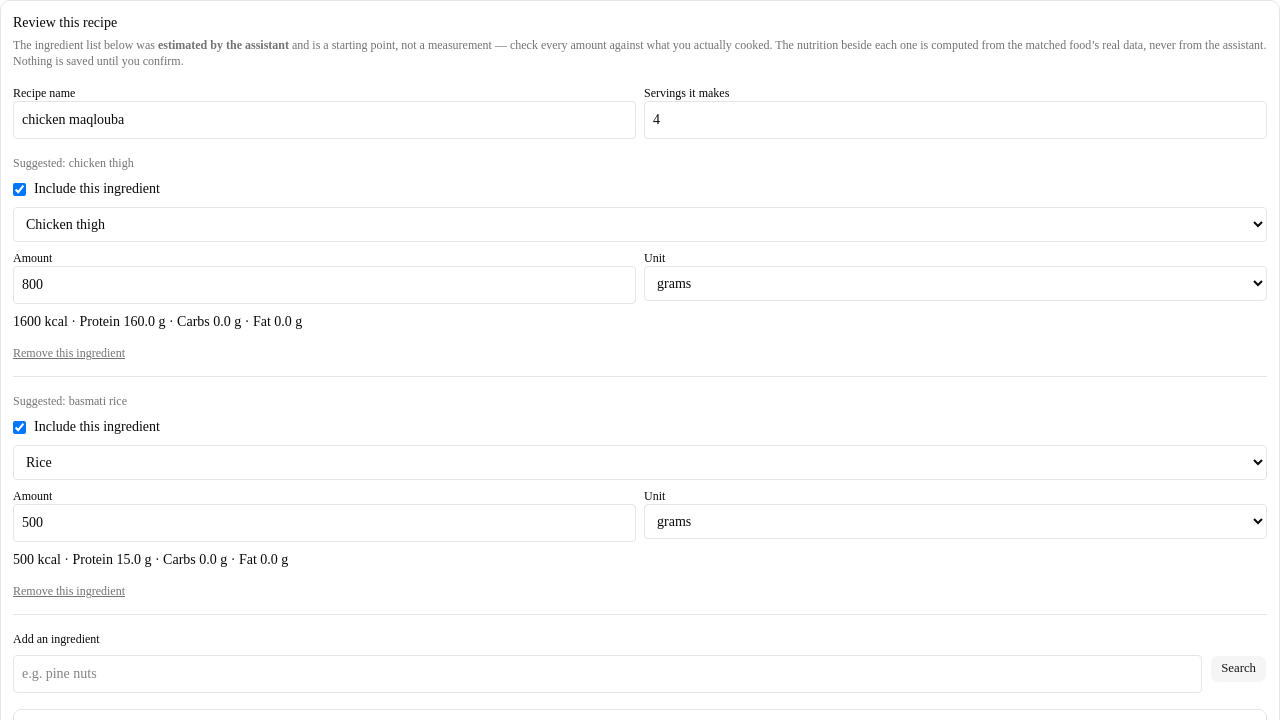
Test: RecipeDraftReview — the total is the sum of its parts › drops an excluded ingredient out of the total
Click the checkbox labelled "Include this ingredient" below "basmati rice" at (20, 427), box [13,420,26,434]
(page scrolled)
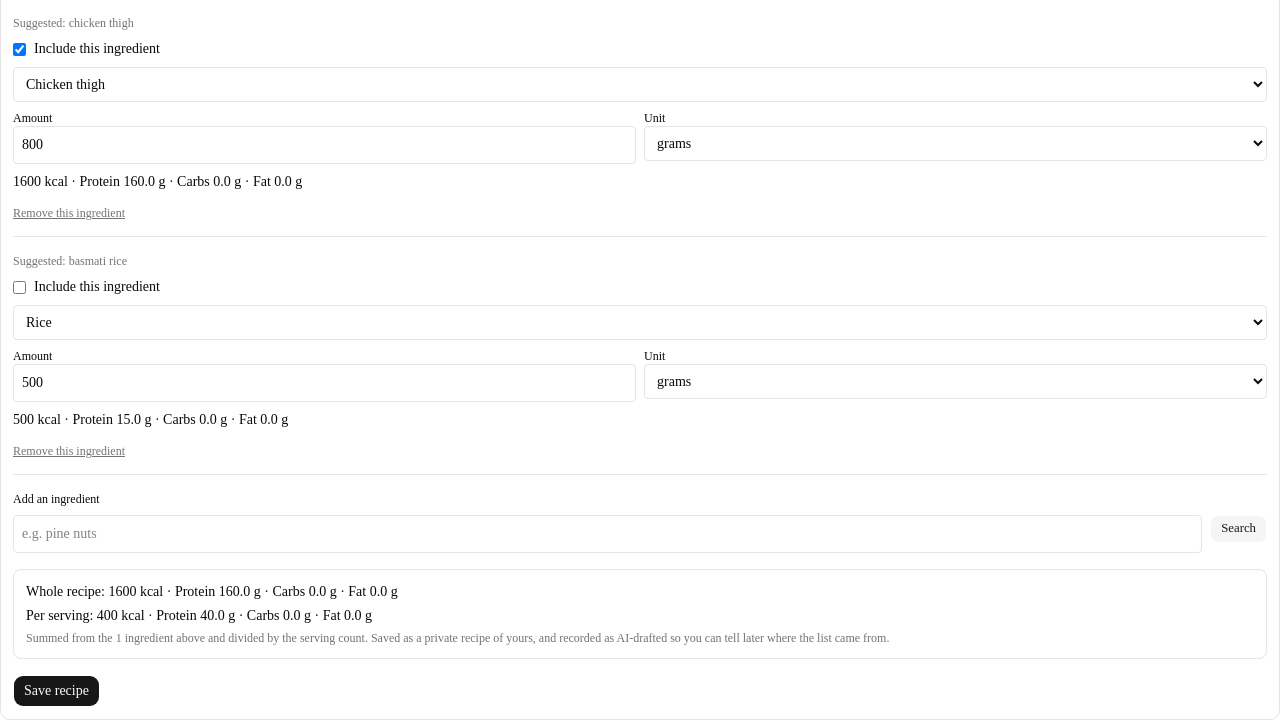
Expected: the text "Whole recipe: 1600 kcal" is shown, [26,584,398,599]
